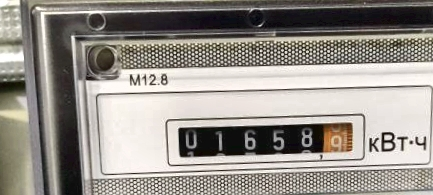0: (184, 127, 198, 149)
1: (214, 129, 225, 151)
5: (271, 127, 286, 150)
6: (242, 127, 257, 150)
8: (299, 125, 314, 147)
9: (327, 132, 342, 154)
screen: (159, 104, 373, 174)
